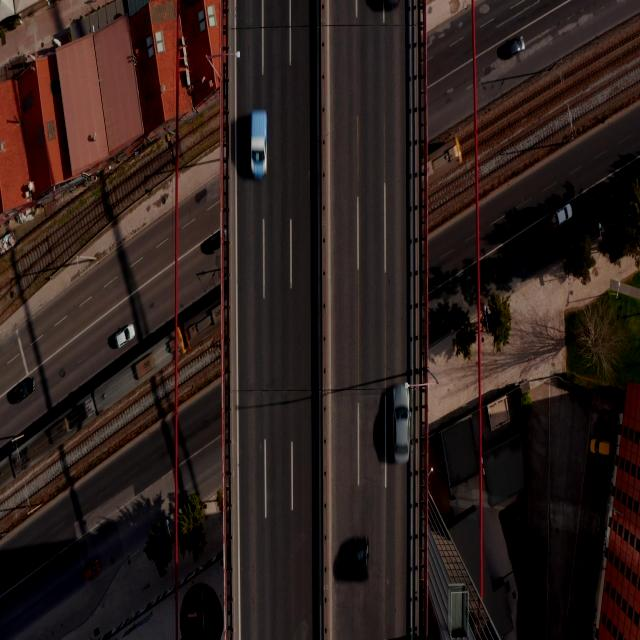Car: (392, 383, 412, 466), (352, 536, 369, 580), (13, 377, 36, 404), (115, 323, 136, 348), (505, 35, 525, 61), (557, 232, 578, 256), (590, 437, 610, 458), (82, 560, 101, 582)
Truck: (548, 202, 573, 230)
Van: (250, 108, 267, 180)
